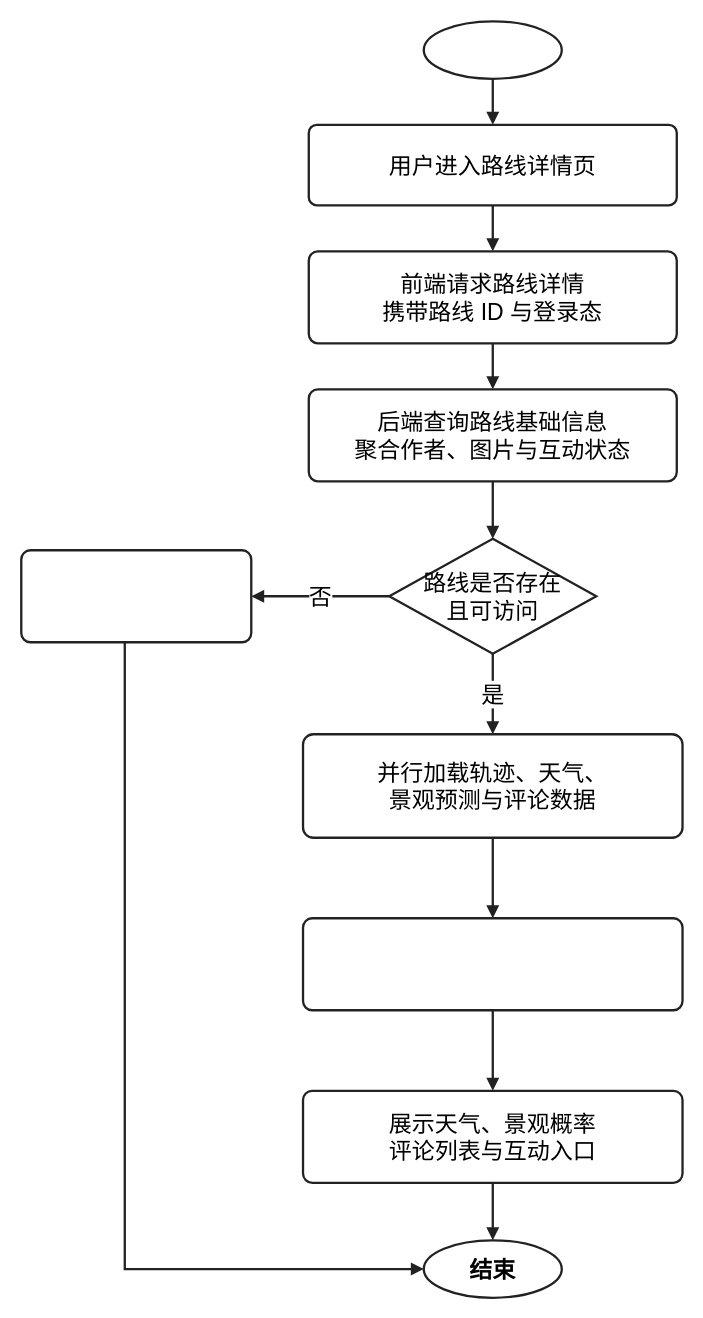
The diagram is 703 pixels wide and 1318 high, and some of its shapes have lost their labels. The box of each missing label's shape, as (x1, y1, x2, y2) in pixels:
前端渲染封面、介绍 地图轨迹与统计信息: (301, 917, 683, 1011)
开始: (422, 20, 562, 79)
返回错误信息: (20, 549, 252, 643)
